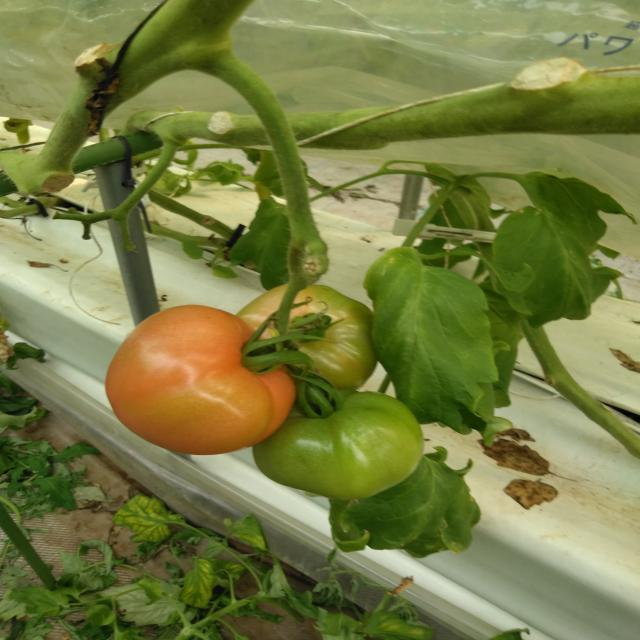sari: (107, 295, 285, 443)
yesil: (259, 384, 408, 502)
